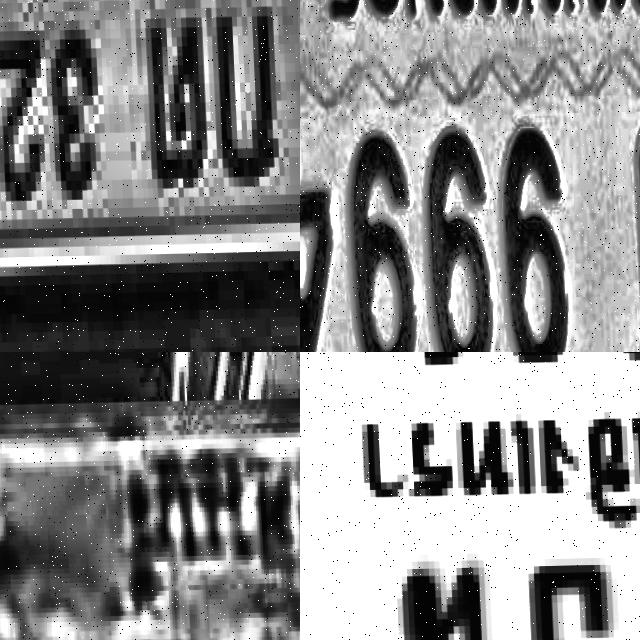license-plate: (300, 0, 640, 352), (300, 352, 640, 640), (0, 0, 300, 291), (0, 400, 300, 640)
